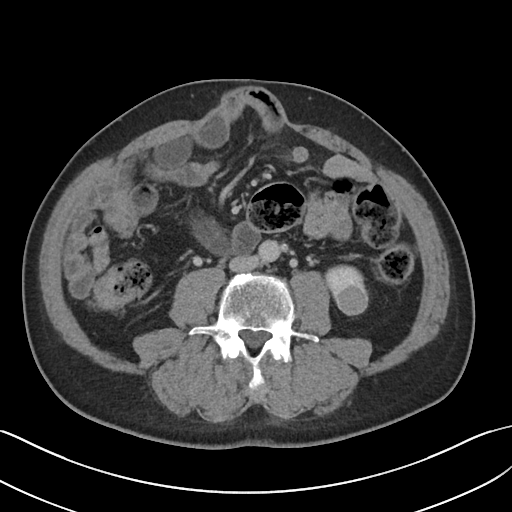Lesion: (336, 284, 372, 318)
